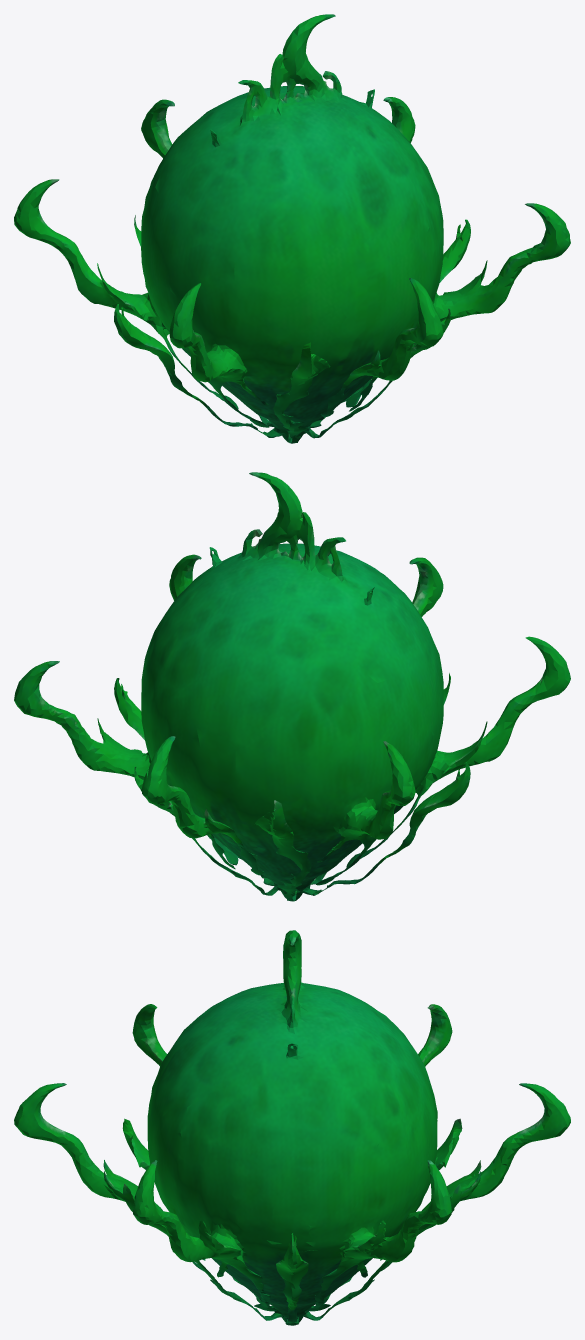
Rendered from forest_wisp.glb.
3 views of the same model, one above another, from view 1: azimuth 30°, elevation 25°; view 2: azimuth 150°, elevation 25°; view 3: azimuth 270°, elevation 25° (orthographic). The views are drawn at different scales.
Parts seen in each view (by area): view 1: forest_wisp; view 2: forest_wisp; view 3: forest_wisp.
Boxes of the visible parts, x1,y1,x2,y2 form: forest_wisp: (14,14,570,443); forest_wisp: (14,472,570,901); forest_wisp: (14,930,570,1325).
Bounding box in the file's own units: 1.51 × 1.52 × 1.9.
Materials: 1 (1 with a texture image).
